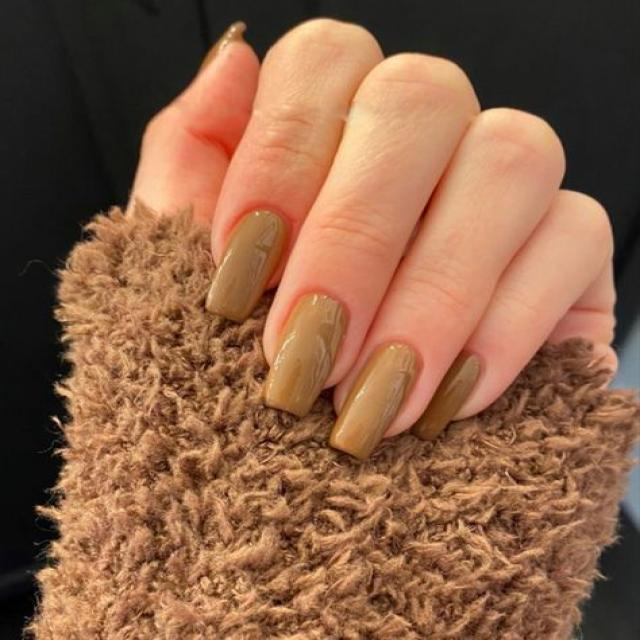Fingernail: (331, 341, 419, 463), (265, 292, 347, 418), (206, 210, 285, 321), (413, 352, 480, 441)
